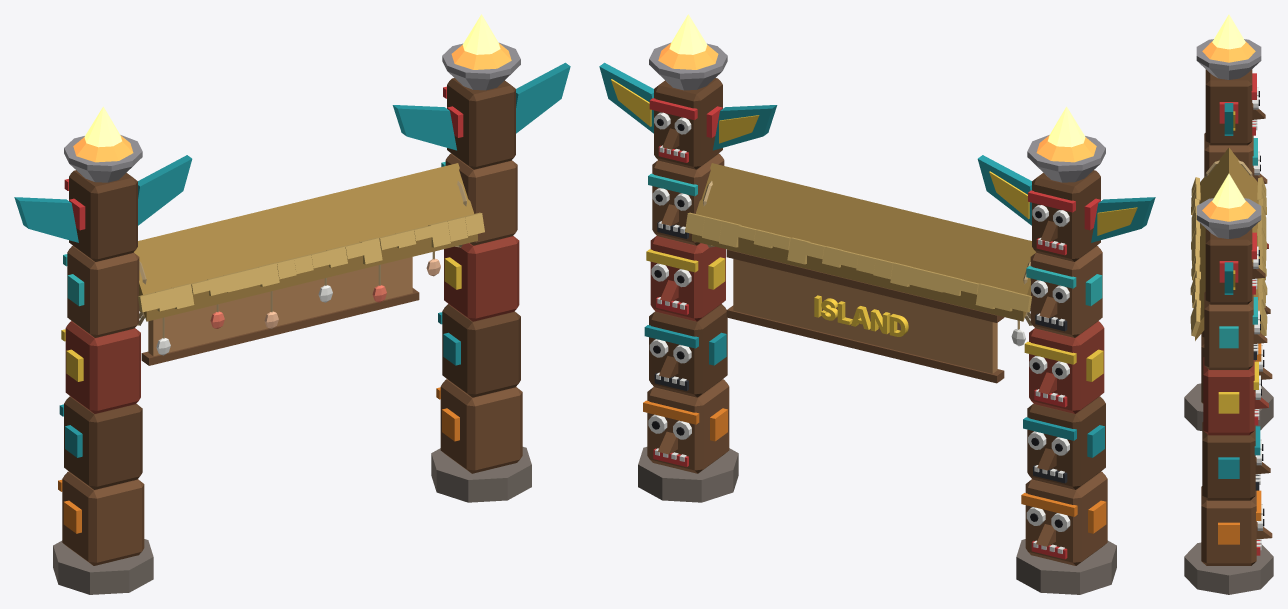
The model's file is TotemGate.fbx.
3 views of the same model, side by side, from view 1: azimuth 30°, elevation 25°; view 2: azimuth 150°, elevation 25°; view 3: azimuth 270°, elevation 25° (orthographic). The views are drawn at different scales.
Parts seen in each view (by area): view 1: TotemGate_WoodDark, TotemGate_ThatchDark, TotemGate_Bark, TotemGate_WoodRed, TotemGate_Teal, TotemGate_Plank, TotemGate_Rock, TotemGate_Thatch, TotemGate_Stone, TotemGate_Ember, TotemGate_Fire, TotemGate_Orange (+2 smaller); view 2: TotemGate_ThatchDark, TotemGate_WoodDark, TotemGate_Bark, TotemGate_Plank, TotemGate_WoodRed, TotemGate_Teal, TotemGate_Rock, TotemGate_Yellow, TotemGate_Thatch, TotemGate_White, TotemGate_Red, TotemGate_Stone (+6 smaller); view 3: TotemGate_Bark, TotemGate_WoodDark, TotemGate_Rock, TotemGate_WoodRed, TotemGate_Thatch, TotemGate_Stone, TotemGate_ThatchDark, TotemGate_Ember, TotemGate_Fire, TotemGate_Teal, TotemGate_White, TotemGate_Red (+5 smaller).
Part boxes in pixels (x1=…): TotemGate_WoodDark: x1=62, y1=153, x2=522, y2=565; TotemGate_ThatchDark: x1=134, y1=163, x2=477, y2=321; TotemGate_Bark: x1=64, y1=78, x2=520, y2=489; TotemGate_WoodRed: x1=65, y1=236, x2=519, y2=413; TotemGate_Teal: x1=14, y1=62, x2=570, y2=457; TotemGate_Plank: x1=148, y1=257, x2=412, y2=356; TotemGate_Rock: x1=53, y1=447, x2=531, y2=594; TotemGate_Thatch: x1=137, y1=212, x2=484, y2=312; TotemGate_Stone: x1=64, y1=42, x2=520, y2=182; TotemGate_Ember: x1=73, y1=43, x2=511, y2=162; TotemGate_Fire: x1=84, y1=14, x2=500, y2=147; TotemGate_Orange: x1=58, y1=387, x2=459, y2=533; TotemGate_ThatchDark: x1=692, y1=163, x2=1035, y2=321; TotemGate_WoodDark: x1=647, y1=153, x2=1107, y2=565; TotemGate_Bark: x1=649, y1=78, x2=1105, y2=489; TotemGate_Plank: x1=733, y1=259, x2=997, y2=373; TotemGate_WoodRed: x1=650, y1=236, x2=1104, y2=413; TotemGate_Teal: x1=599, y1=62, x2=1155, y2=457; TotemGate_Rock: x1=638, y1=447, x2=1116, y2=594; TotemGate_Yellow: x1=611, y1=79, x2=1137, y2=381; TotemGate_Thatch: x1=685, y1=212, x2=1032, y2=312; TotemGate_White: x1=648, y1=112, x2=1070, y2=553; TotemGate_Red: x1=649, y1=98, x2=1100, y2=559; TotemGate_Stone: x1=649, y1=42, x2=1105, y2=182; TotemGate_Bark: x1=1202, y1=69, x2=1270, y2=500; TotemGate_WoodDark: x1=1201, y1=133, x2=1272, y2=565; TotemGate_Rock: x1=1184, y1=383, x2=1273, y2=594; TotemGate_WoodRed: x1=1203, y1=243, x2=1268, y2=435; TotemGate_Thatch: x1=1190, y1=177, x2=1267, y2=336; TotemGate_Stone: x1=1196, y1=39, x2=1261, y2=238; TotemGate_ThatchDark: x1=1195, y1=148, x2=1260, y2=340; TotemGate_Ember: x1=1202, y1=41, x2=1255, y2=221; TotemGate_Fire: x1=1212, y1=14, x2=1245, y2=208; TotemGate_Teal: x1=1218, y1=103, x2=1260, y2=478; TotemGate_White: x1=1252, y1=87, x2=1262, y2=550; TotemGate_Red: x1=1219, y1=73, x2=1260, y2=555.
Size of the model in its own units: 30.6 by 24.8 by 5.
